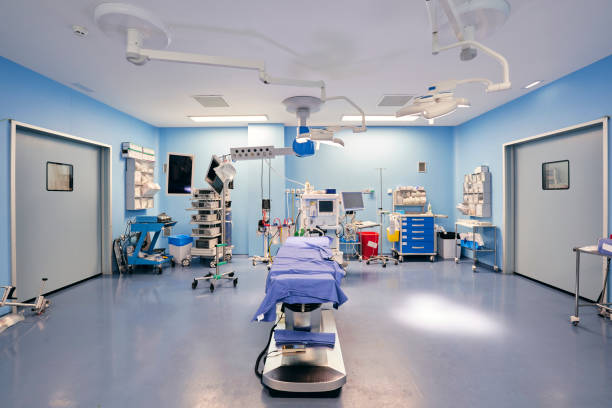bedside_monitor: (169, 153, 197, 197), (340, 191, 365, 209), (315, 200, 334, 214)
cabinet: (124, 143, 159, 208)
chair: (205, 238, 237, 291)
electrosurgical_unit: (132, 212, 174, 224)
iv_pole: (215, 154, 233, 261), (375, 165, 386, 259)
medical_drawer: (397, 215, 439, 267)
operating_bed: (253, 234, 347, 397)
surgical_light: (305, 129, 346, 152)
utility_cart: (565, 233, 612, 330), (452, 218, 499, 277)
waste_bin: (168, 235, 191, 267), (359, 231, 377, 263), (439, 232, 457, 259)
